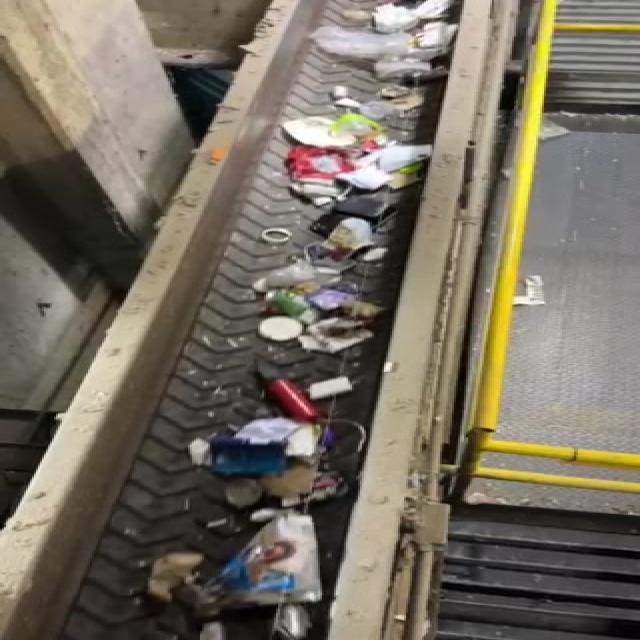pet: (253, 365, 336, 423)
pp: (202, 436, 298, 482)
ps: (225, 514, 328, 614)
